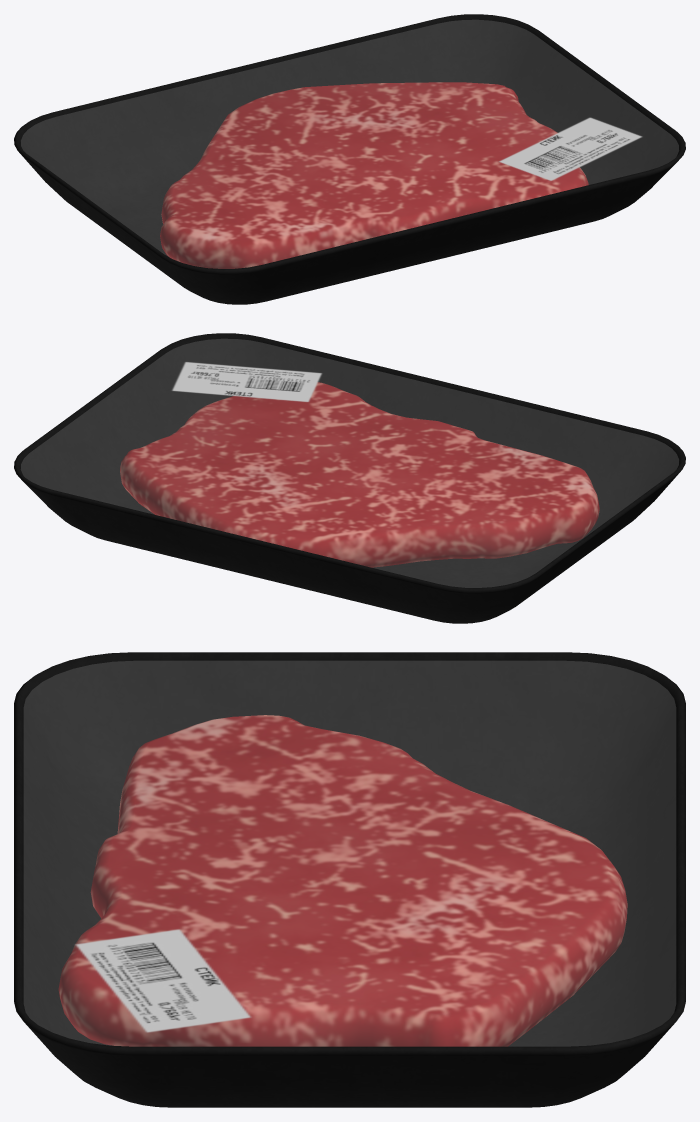
File: packaged steak.glb
The picture shows the model from 3 angles, top to bottom: view 1: azimuth 30°, elevation 25°; view 2: azimuth 150°, elevation 25°; view 3: azimuth 270°, elevation 25°; orthographic projection. The views are drawn at different scales.
Parts seen in each view (by area): view 1: plastic, box, meat; view 2: plastic, box, meat; view 3: plastic, box, meat.
Boxes of the visible parts, bbox=[...] form: plastic: bbox=[21, 20, 678, 268]; box: bbox=[14, 14, 685, 304]; meat: bbox=[160, 82, 588, 268]; plastic: bbox=[21, 339, 678, 587]; box: bbox=[14, 333, 685, 623]; meat: bbox=[120, 382, 599, 567]; plastic: bbox=[24, 661, 675, 1045]; box: bbox=[14, 652, 685, 1107]; meat: bbox=[58, 715, 627, 1046].
Size of the model in its own units: 0.2563 by 0.0349 by 0.1826.
2 materials, 2 textured.
